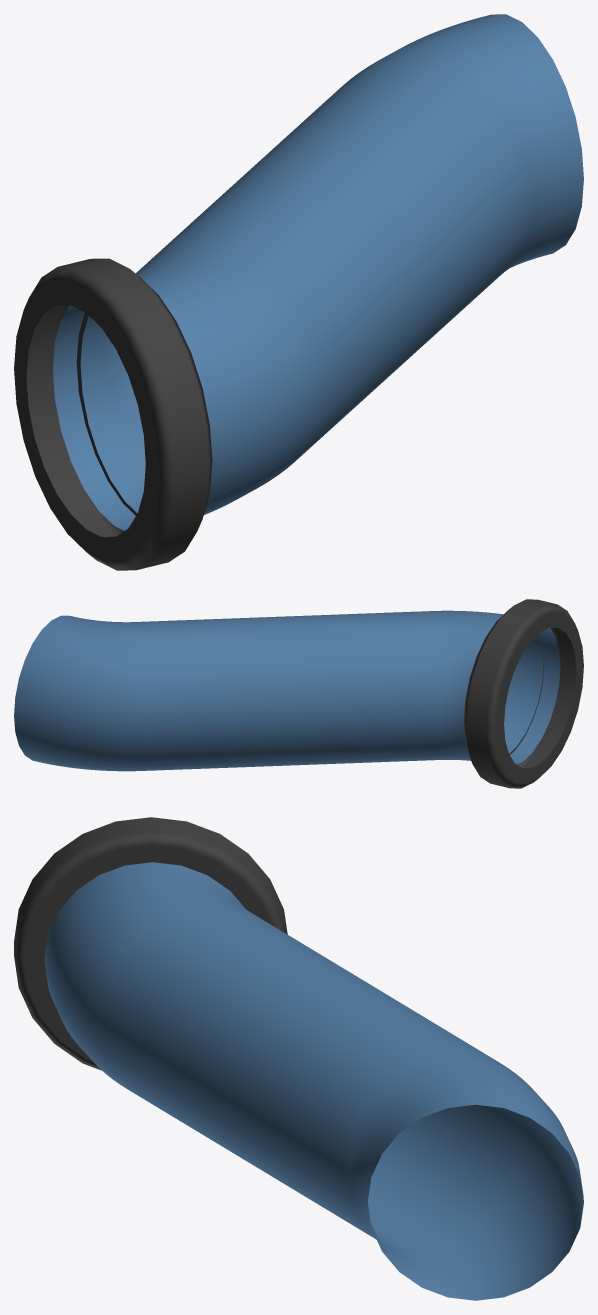
The model's file is Pipe_Shear.fbx.
3 views of the same model, one above another, from view 1: azimuth 30°, elevation 25°; view 2: azimuth 150°, elevation 25°; view 3: azimuth 270°, elevation 25° (orthographic). The views are drawn at different scales.
Visible parts, largest first — view 1: Pipe_Shear; view 2: Pipe_Shear; view 3: Pipe_Shear.
Part boxes in pixels (x1,y1,x2,y2): Pipe_Shear: (14, 14, 583, 570); Pipe_Shear: (14, 599, 583, 788); Pipe_Shear: (14, 817, 583, 1300).
Bounding box in the file's own units: 116 × 50.8 × 105.
